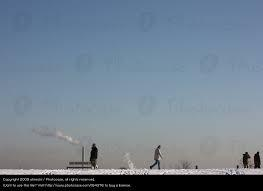smoke: (30, 122, 85, 149), (109, 144, 138, 170)
